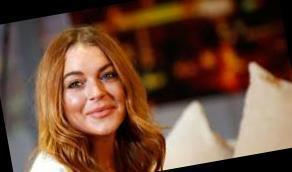Drunk: (64, 47, 124, 132)
